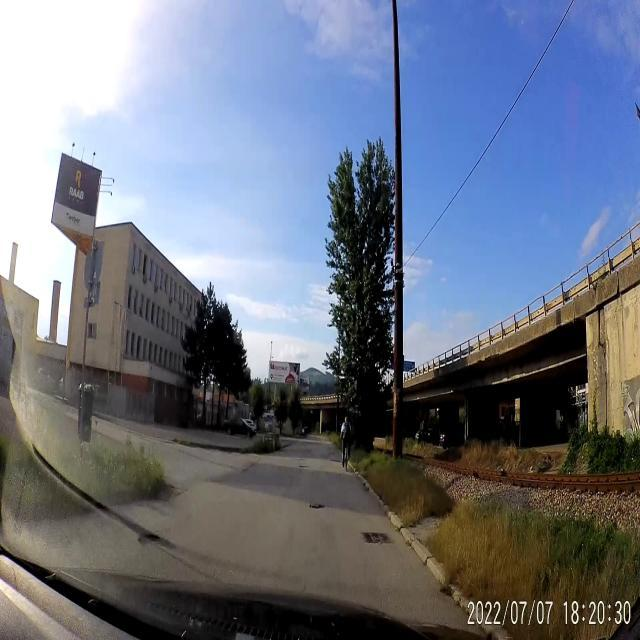Manhole: (358, 527, 392, 549)
Pothole: (135, 524, 171, 558), (301, 492, 325, 518), (296, 462, 316, 474)
